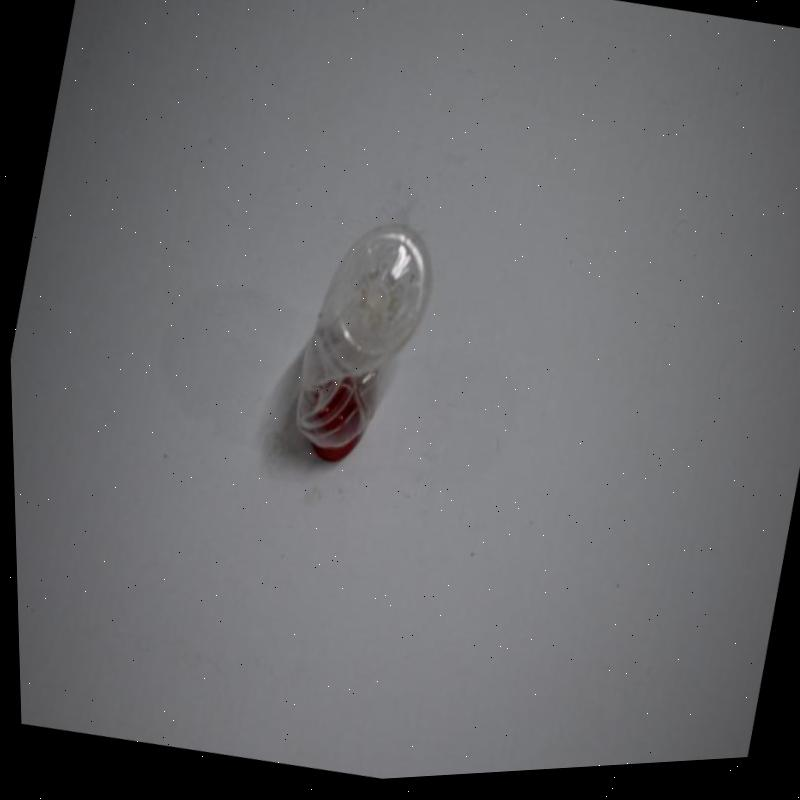botella: (275, 210, 450, 482)
